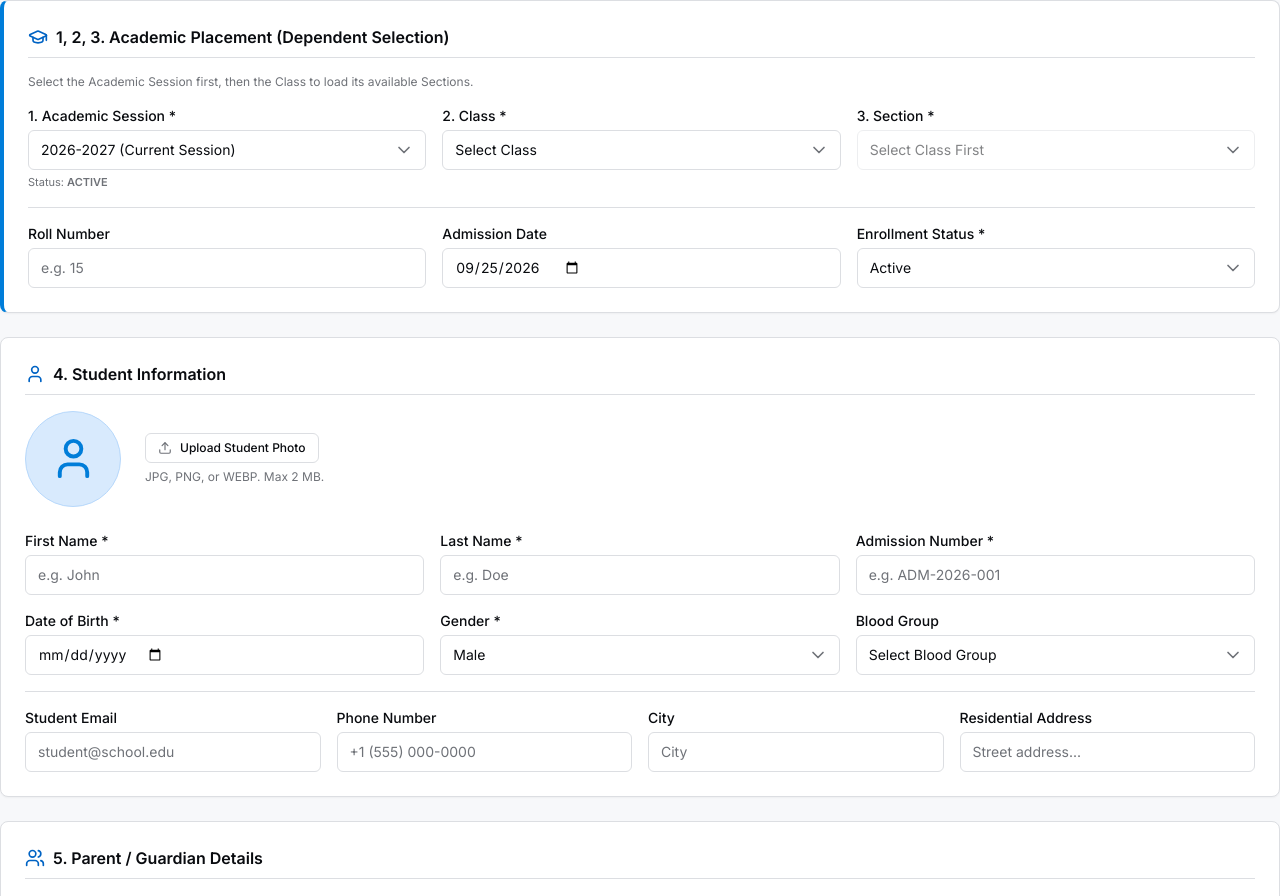
Scenario: StudentForm Component › renders a valid link to /classes when a class has no sections
Select "Grade 10" in the dropdown labelled "2. Class *": coordinates (641, 150) [442,130,841,170]
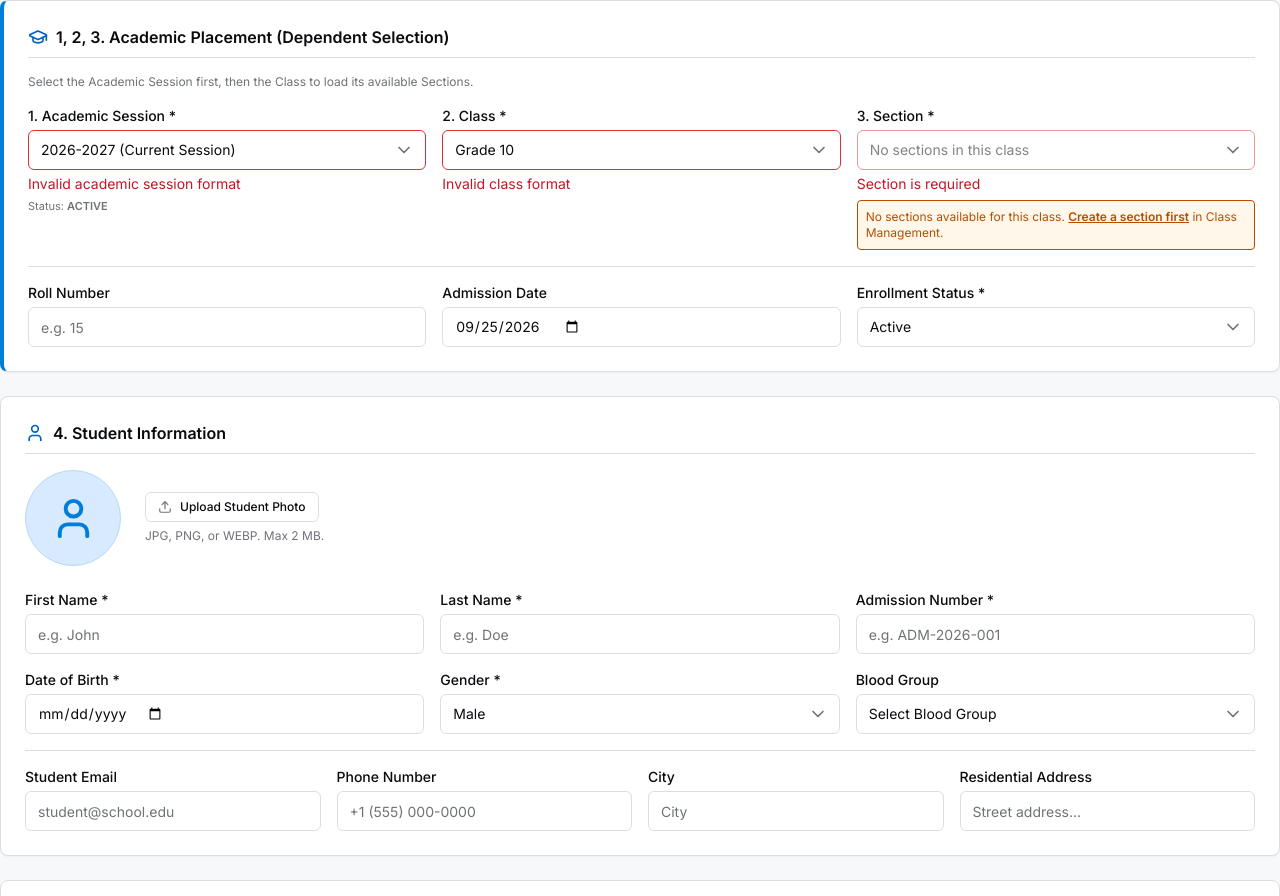
Expected: the link "Create a section first" is shown, [1068,209,1189,224]
